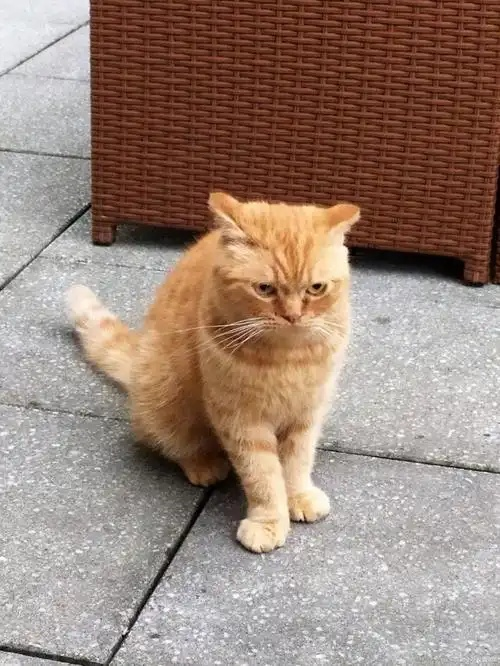橘猫: (68, 193, 358, 551)
